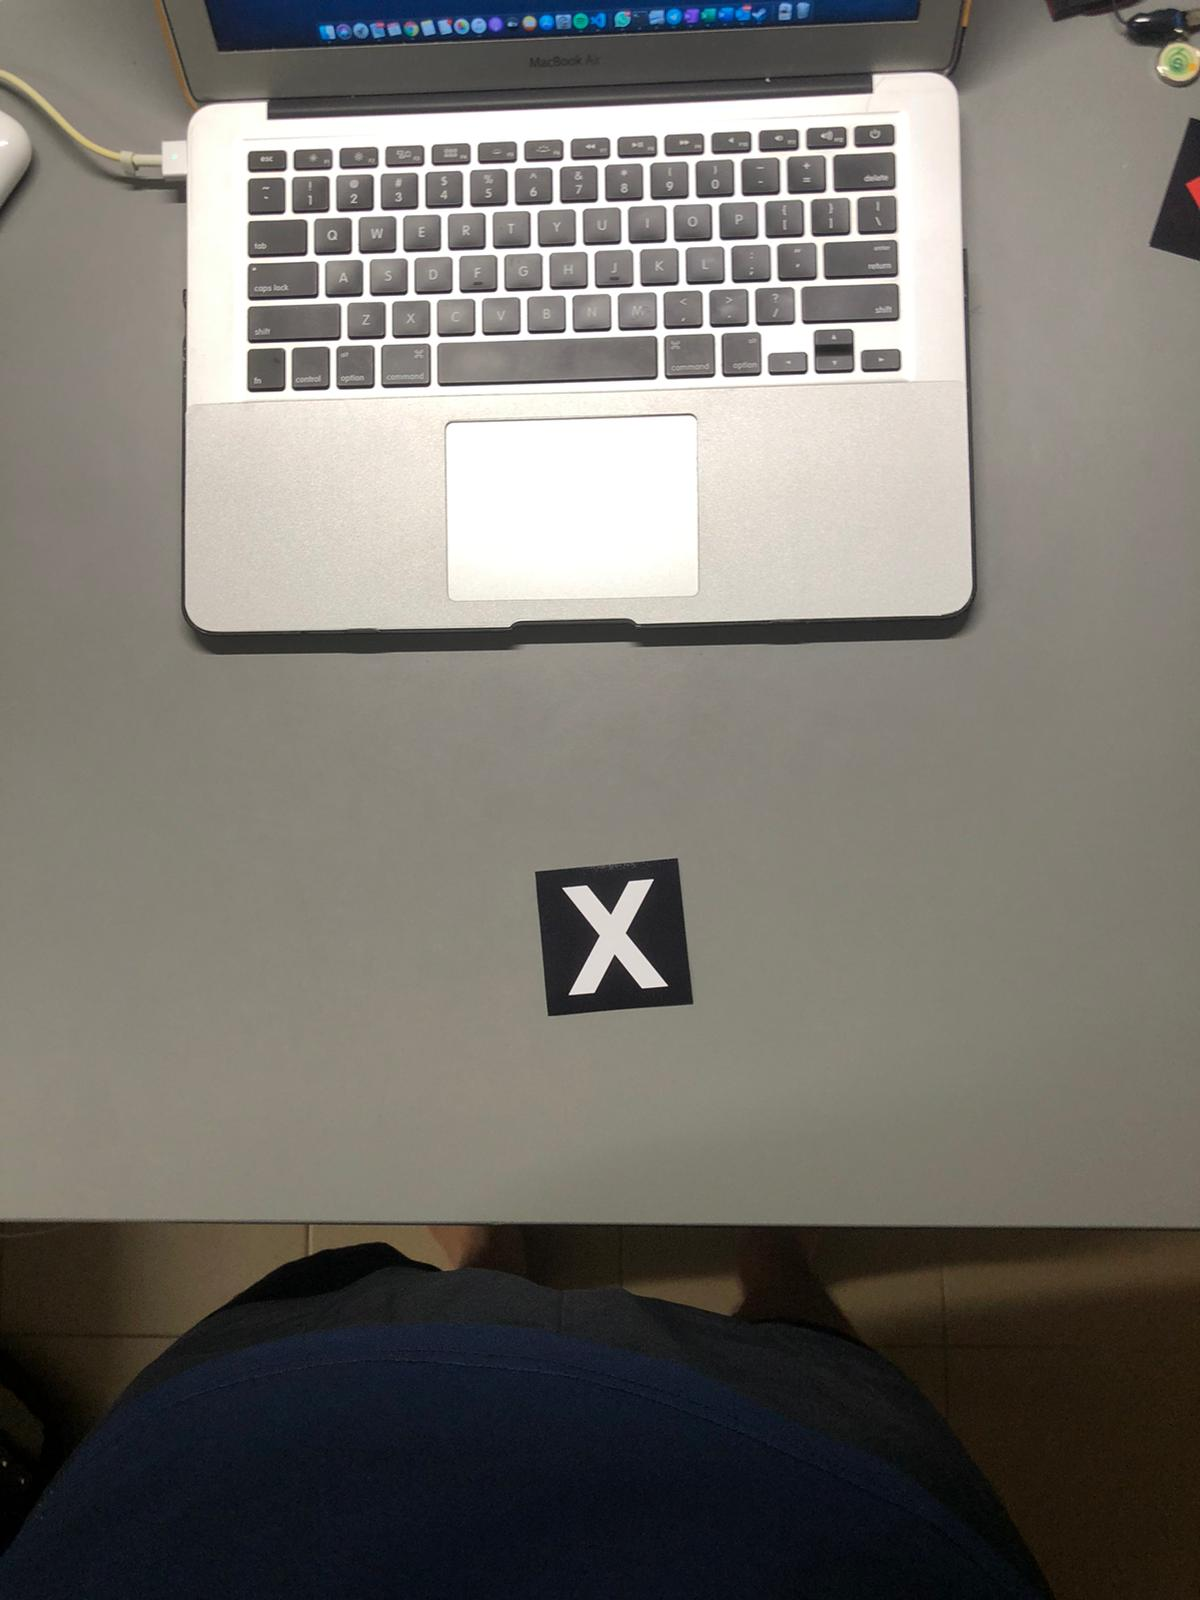X: (534, 853, 691, 1012)
